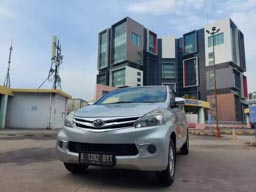plat: (78, 150, 118, 160)
